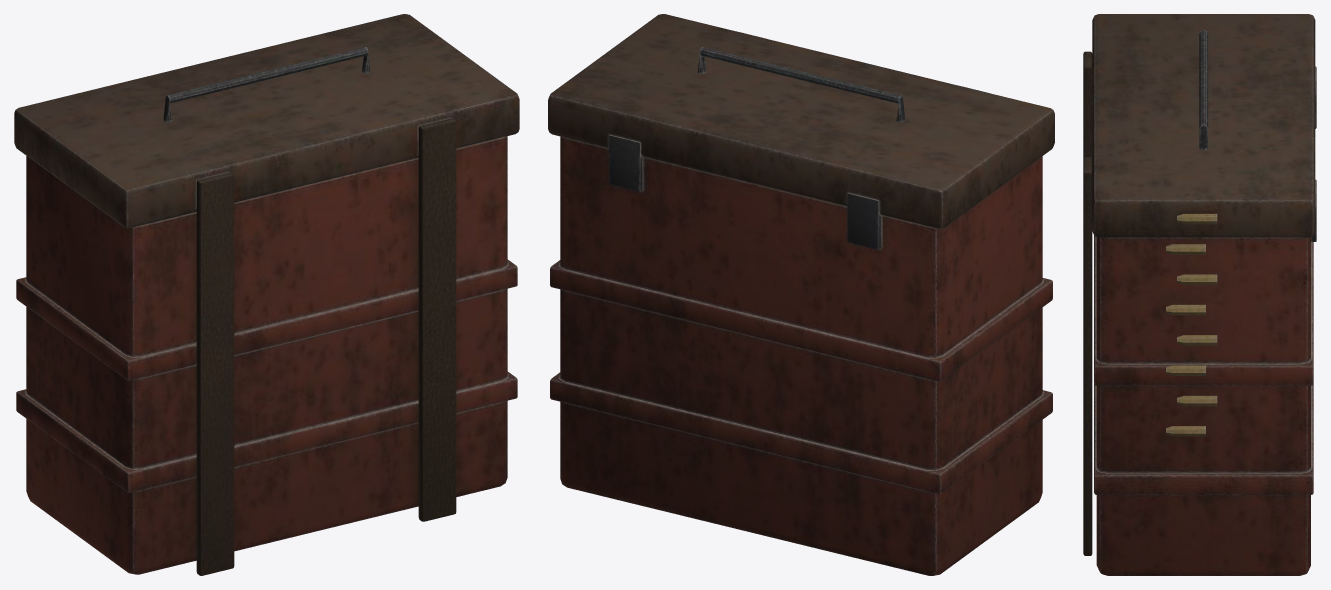
File: gunner_ammo_backpack.glb
3 views of the same model, side by side, from view 1: azimuth 30°, elevation 25°; view 2: azimuth 150°, elevation 25°; view 3: azimuth 270°, elevation 25° (orthographic). The views are drawn at different scales.
Visible parts, largest first — view 1: gunner_ammo_backpack; view 2: gunner_ammo_backpack; view 3: gunner_ammo_backpack.
Part boxes in pixels (x1,y1,x2,y2): gunner_ammo_backpack: (14,14,519,575); gunner_ammo_backpack: (548,14,1054,575); gunner_ammo_backpack: (1083,14,1316,575).
Size of the model in its own units: 0.411 by 0.414 by 0.209.
Materials: 1 (1 with a texture image).
